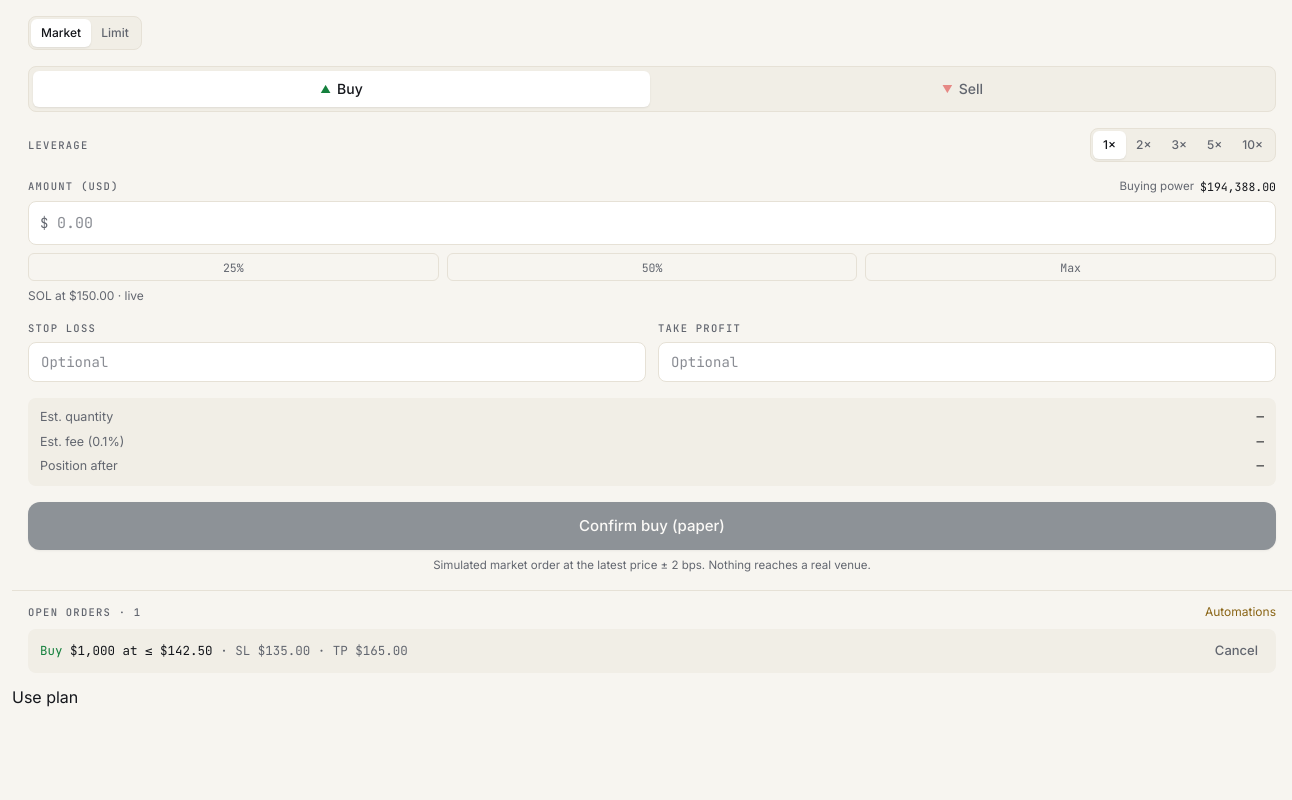
it: OpenOrders › lists this symbol's buy/sell price alerts (no schedules) and cancels one
Expected: the heading "Open orders · 1" is shown, [28,605,141,620]
Expected: the list item shows "Buy $1,000 at ≤ $142.50 · SL $135.00 · TP $165.00", [28,629,1276,673]
What coordinates should you click on to do the following:
click the button with aria-label "Cancel limit buy at $142.50"
I would click on:
 (1236, 651)
Its box is [1203,635,1270,667].
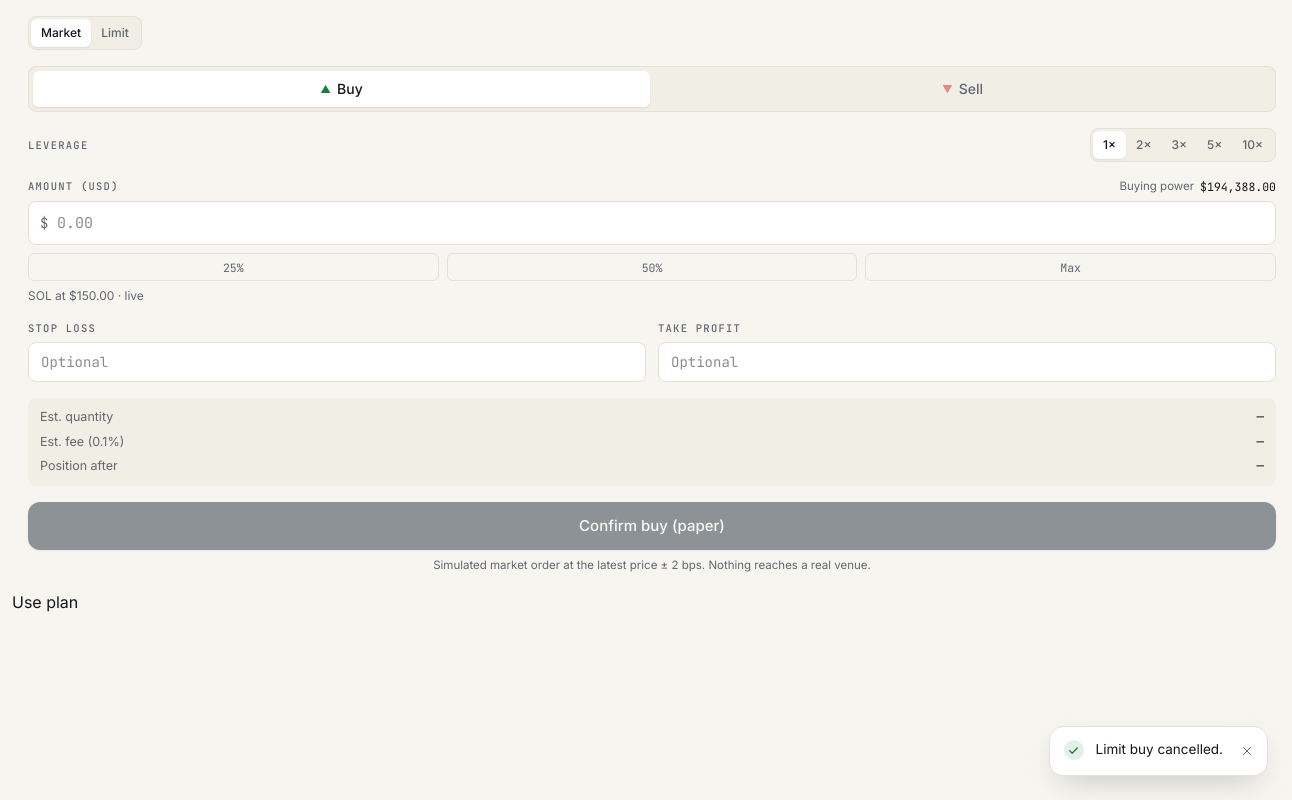
Expected: the text "Limit buy cancelled." is shown, [1096,739,1223,760]
Expected: the heading "Open orders" is gone
